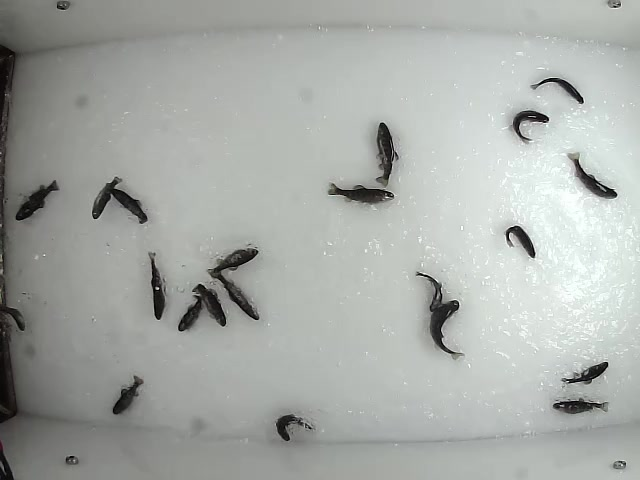fish: (210, 266, 262, 322), (565, 148, 618, 201), (424, 298, 464, 360), (14, 178, 61, 224), (324, 179, 396, 205), (375, 120, 401, 188), (87, 174, 124, 221), (108, 187, 150, 226), (145, 249, 168, 320), (108, 372, 145, 415), (510, 106, 554, 142), (208, 245, 261, 273), (530, 79, 584, 105), (273, 411, 316, 442), (413, 269, 444, 311), (561, 360, 612, 385), (504, 225, 534, 257), (551, 399, 610, 415)
